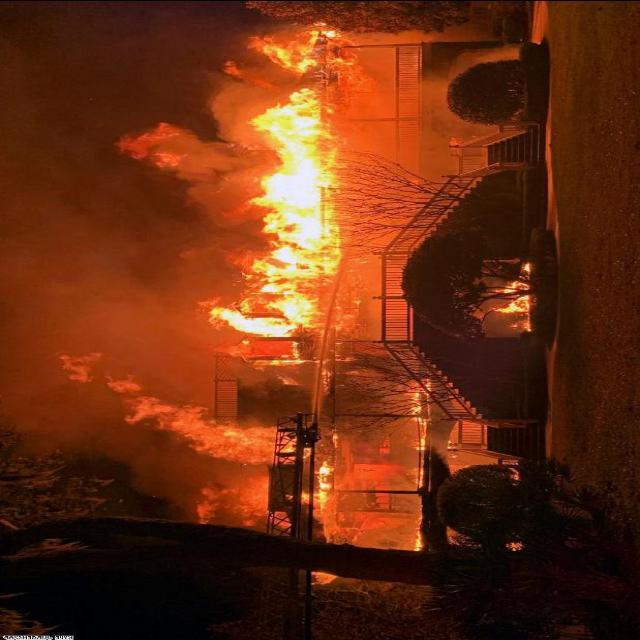Fire: (113, 26, 354, 390), (44, 346, 348, 542), (489, 294, 531, 332), (406, 380, 434, 424), (491, 281, 533, 293), (403, 468, 425, 490), (407, 526, 423, 550), (407, 436, 427, 452), (520, 260, 532, 274)
